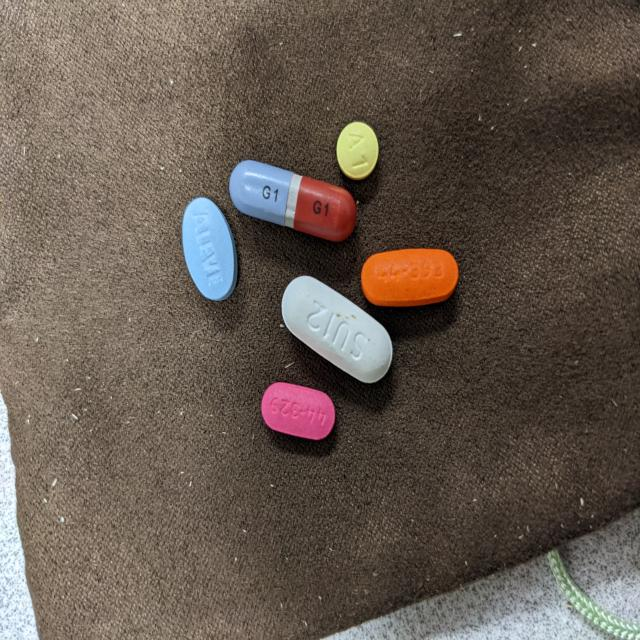non-organic waste: (281, 274, 394, 384), (228, 158, 358, 243), (359, 245, 460, 310), (181, 194, 239, 303), (260, 380, 336, 442), (336, 120, 380, 182)
